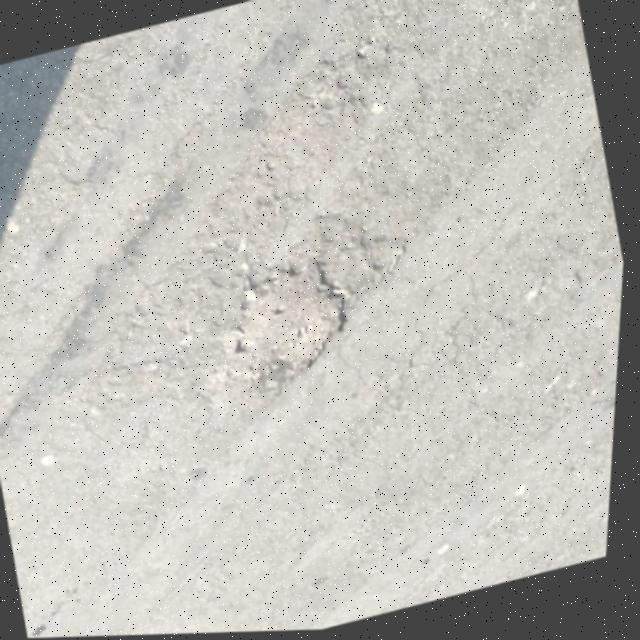Pothole: (199, 245, 377, 407)
